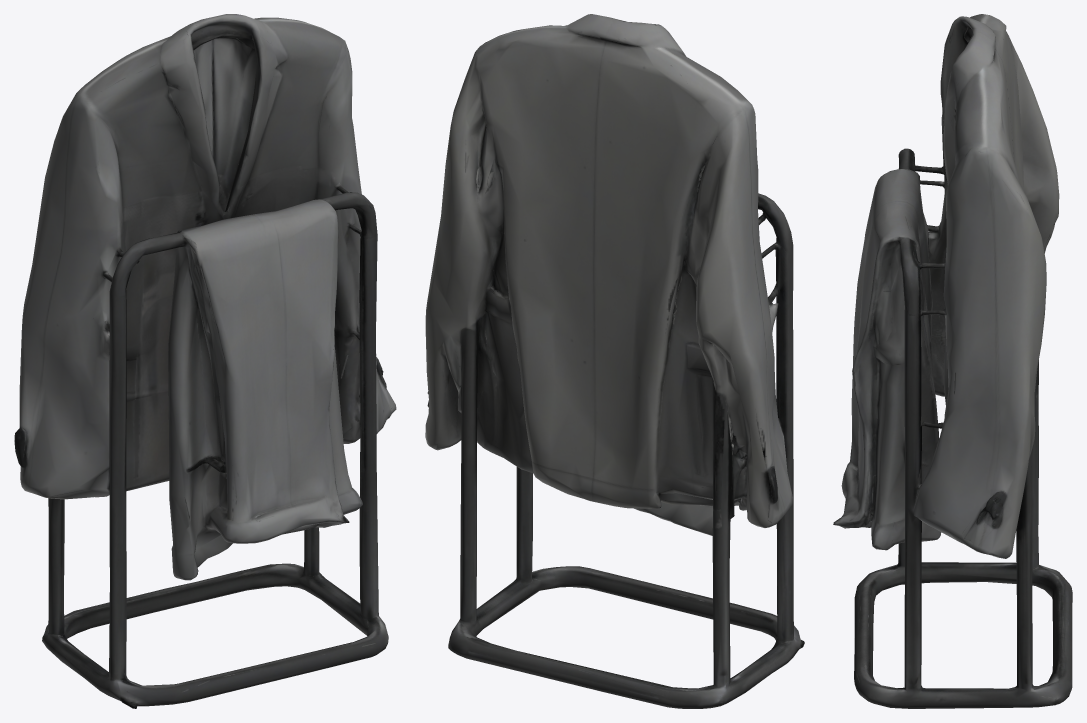
File: Meshy_AI_Grey_suit_on_a_clothi_0518213903_texture.fbx
The picture shows the model from 3 angles, left to right: view 1: azimuth 30°, elevation 25°; view 2: azimuth 150°, elevation 25°; view 3: azimuth 270°, elevation 25°; orthographic projection. The views are drawn at different scales.
Parts seen in each view (by area): view 1: Mesh1.0; view 2: Mesh1.0; view 3: Mesh1.0.
Boxes of the visible parts, x1=… form: Mesh1.0: x1=14, y1=14, x2=396, y2=708; Mesh1.0: x1=425, y1=14, x2=804, y2=708; Mesh1.0: x1=833, y1=14, x2=1072, y2=708.
Bounding box in the file's own units: 121 × 201 × 70.47.
1 material, 1 textured.
